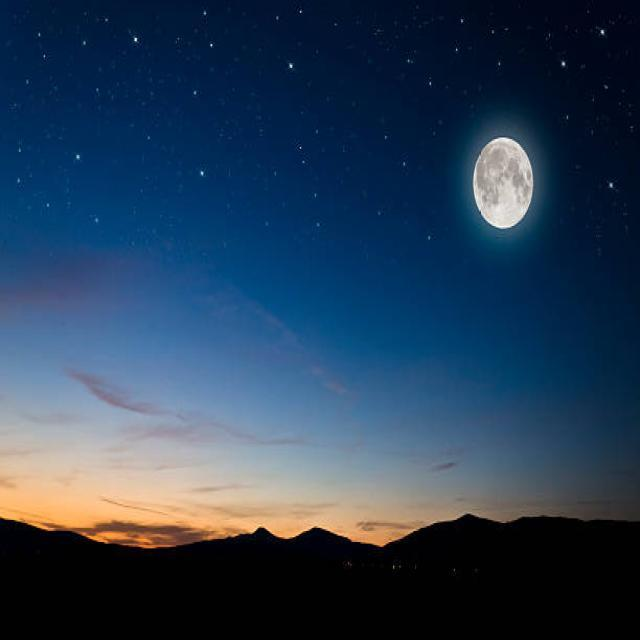moon: (472, 135, 534, 233)
